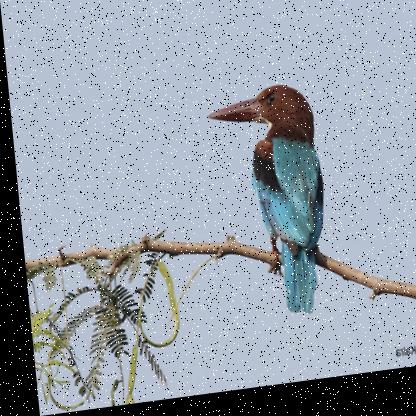Burung: (204, 88, 329, 330)
